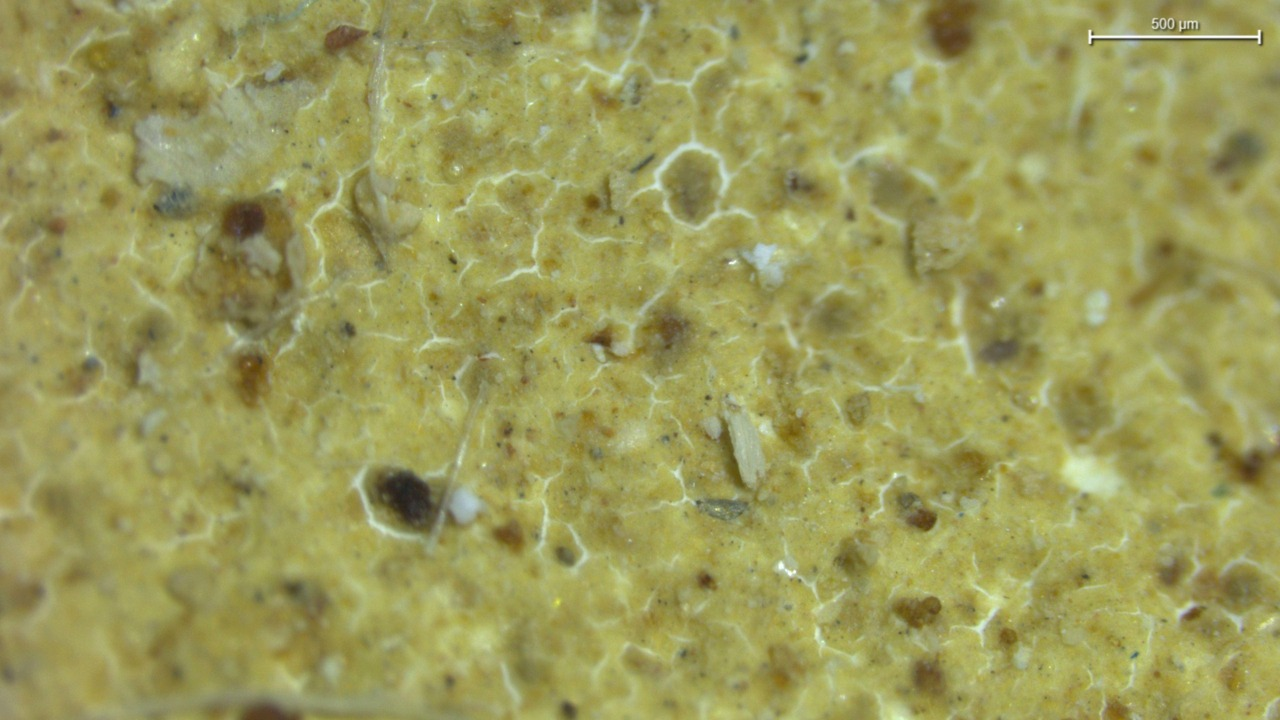microplastic_fragment: (911, 214, 976, 273), (376, 470, 434, 528), (726, 411, 765, 489), (447, 488, 483, 525)
